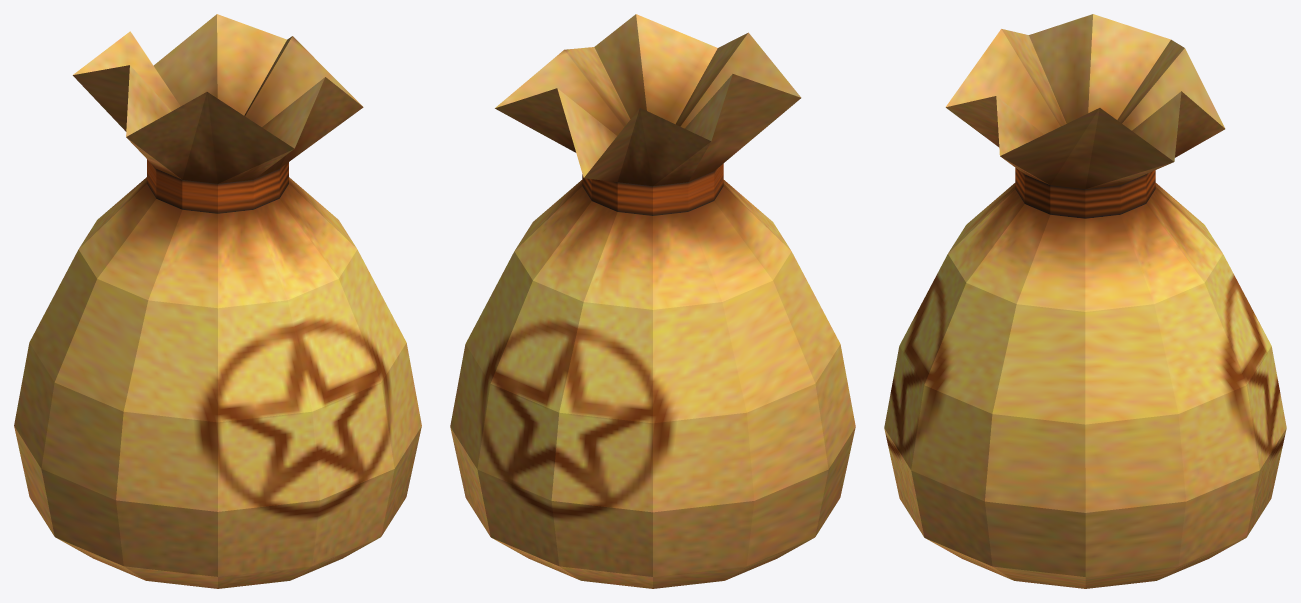
Rendered from moneybag.obj.
The picture shows the model from 3 angles, left to right: view 1: azimuth 30°, elevation 25°; view 2: azimuth 150°, elevation 25°; view 3: azimuth 270°, elevation 25°; orthographic projection.
Size of the model in its own units: 70.95 by 94.34 by 70.95.
1 material, 1 textured.
